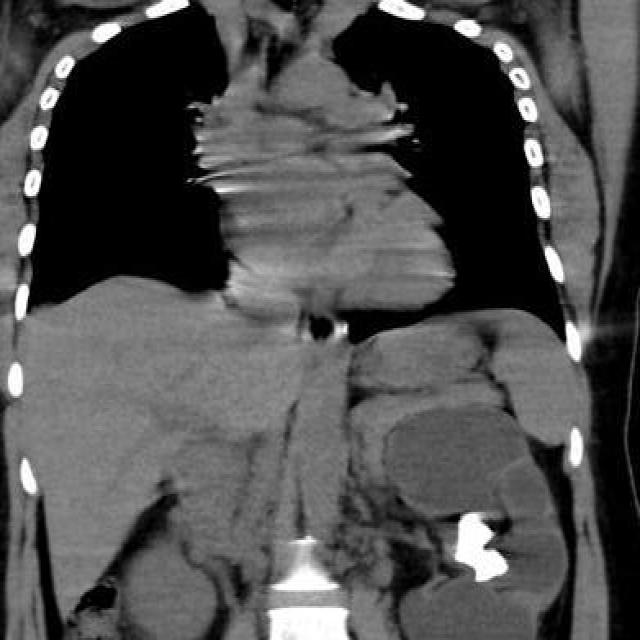Tas_Var: (450, 504, 516, 588)
